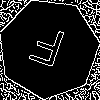F: (24, 24, 68, 77)
